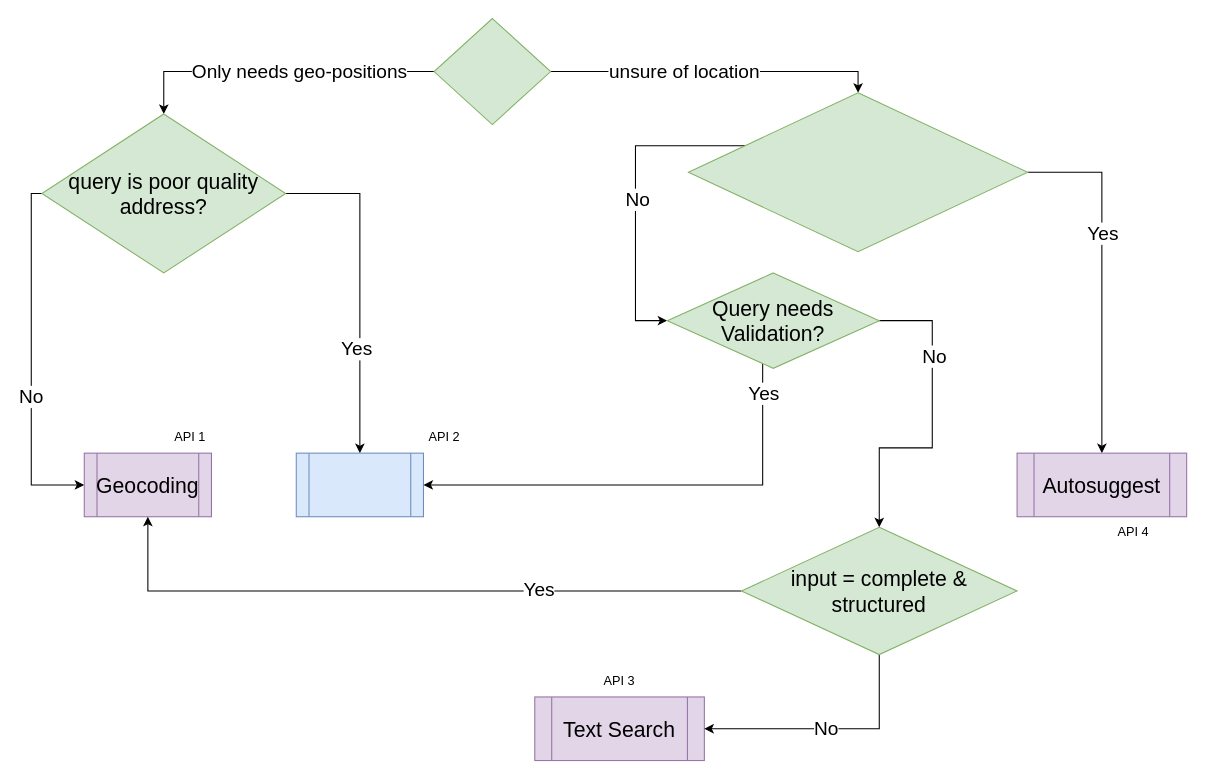
The diagram is 1205 pixels wide and 779 high, and some of its shapes have lost their labels. The shapes that lost their labels are listed below. From the top down, each one's centre as x and y in pixels, then its label:
the point at 492,71: Input query
the point at 857,172: Does the use case involve interactive user input?
the point at 359,484: Address Validation
